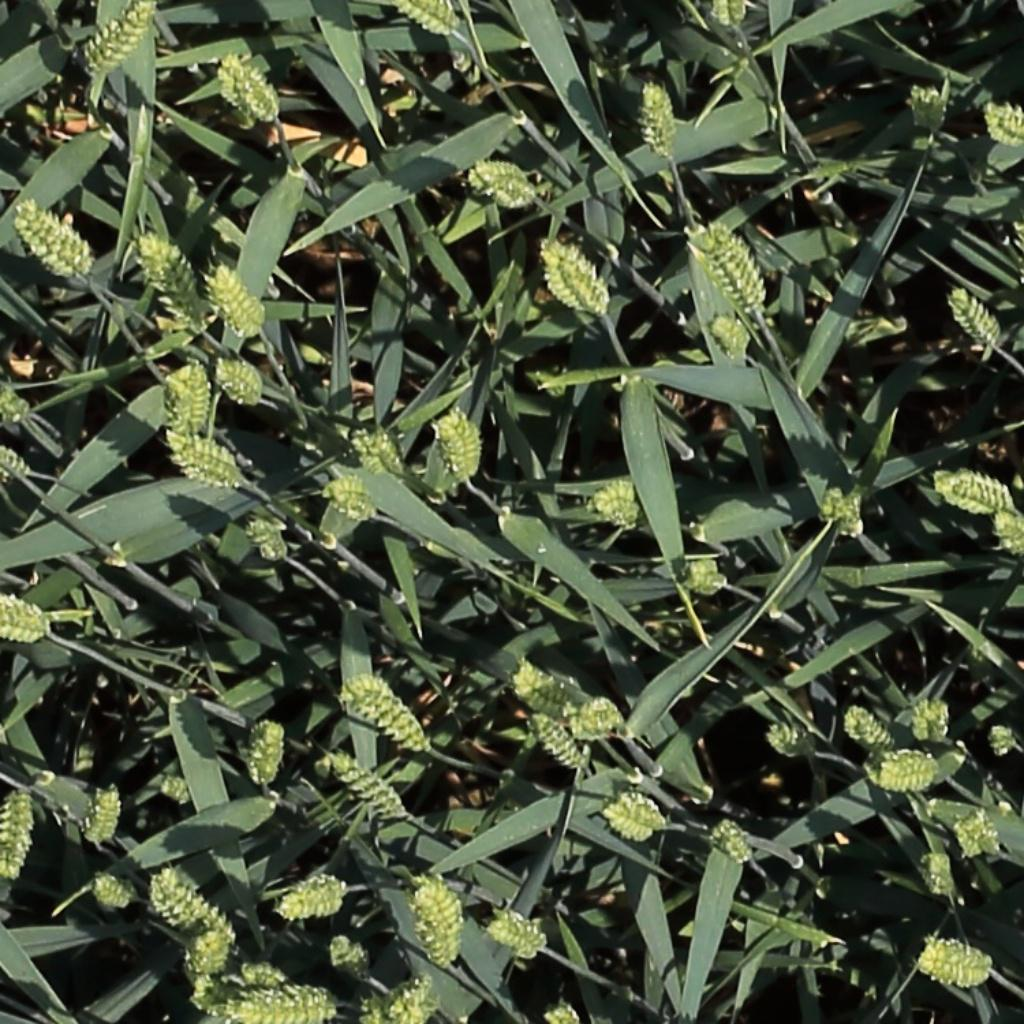0-0: (343, 666, 431, 755), (696, 218, 767, 312), (146, 866, 228, 941), (144, 238, 211, 328), (324, 753, 408, 820), (222, 981, 351, 1024), (13, 202, 90, 273), (544, 238, 610, 316), (87, 2, 153, 78), (207, 259, 267, 339), (178, 963, 292, 1005), (439, 406, 494, 487), (415, 873, 460, 972), (223, 49, 278, 128), (946, 281, 1006, 350), (161, 356, 210, 440), (528, 711, 589, 776), (0, 786, 39, 887), (822, 479, 878, 544), (165, 434, 237, 483), (562, 692, 631, 743), (913, 935, 991, 980), (603, 793, 671, 843), (641, 77, 679, 165), (171, 930, 233, 982), (933, 475, 1015, 514), (277, 873, 351, 916), (576, 482, 642, 528), (711, 815, 759, 872), (847, 705, 901, 755), (354, 423, 402, 479), (900, 80, 952, 130), (386, 973, 439, 1022), (469, 167, 539, 204), (252, 716, 285, 793), (329, 933, 375, 988), (712, 305, 754, 364), (488, 913, 547, 954), (86, 782, 121, 851), (401, 0, 471, 34), (955, 798, 995, 855), (0, 597, 49, 641), (212, 359, 264, 400), (924, 847, 958, 909), (679, 553, 726, 595), (918, 694, 951, 753), (323, 476, 376, 512), (245, 520, 289, 563), (991, 507, 1024, 561), (0, 387, 42, 428), (983, 103, 1024, 143), (90, 877, 133, 909), (768, 727, 817, 755), (2, 431, 23, 496), (987, 720, 1017, 763), (714, 0, 744, 36), (547, 1003, 582, 1024)
